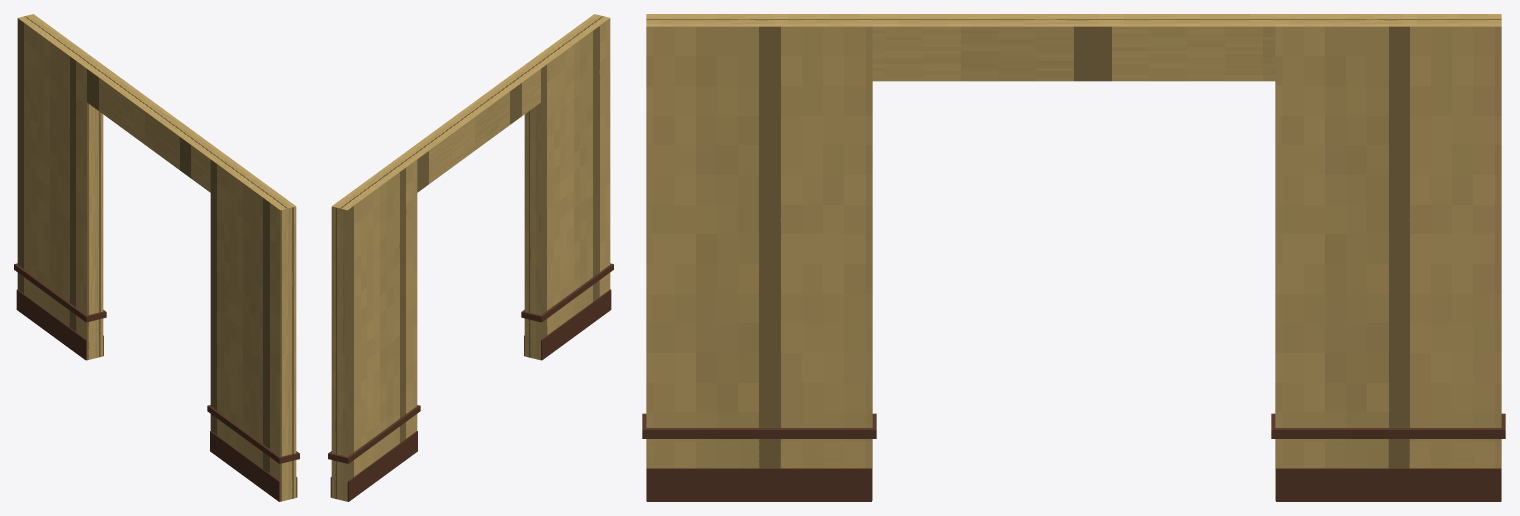
The model's file is living_dining.glb.
3 views of the same model, side by side, from view 1: azimuth 30°, elevation 25°; view 2: azimuth 150°, elevation 25°; view 3: azimuth 270°, elevation 25° (orthographic). The views are drawn at different scales.
Visible parts, largest first — view 1: Box3, Box1, Box5, Box4, Box2, Box6, Box9, Box7; view 2: Box1, Box3, Box5, Box2, Box4, Box8, Box7, Box9; view 3: Box3, Box1, Box5, Box2, Box4, Box6, Box8, Box7, Box9.
Part boxes in pixels (x1,y1,x2,y2): Box3: [210, 155, 296, 501]; Box1: [17, 14, 103, 360]; Box5: [87, 65, 226, 192]; Box4: [210, 431, 297, 501]; Box2: [16, 289, 103, 360]; Box6: [17, 273, 102, 359]; Box9: [207, 405, 299, 463]; Box7: [14, 263, 106, 322]; Box1: [331, 155, 417, 501]; Box3: [524, 14, 610, 360]; Box5: [401, 65, 540, 192]; Box2: [330, 431, 417, 501]; Box4: [524, 289, 611, 360]; Box8: [525, 273, 610, 359]; Box7: [328, 405, 420, 463]; Box9: [521, 263, 613, 322]; Box3: [646, 14, 872, 500]; Box1: [1275, 14, 1501, 500]; Box5: [872, 14, 1275, 81]; Box2: [1276, 468, 1501, 501]; Box4: [646, 468, 871, 501]; Box6: [1275, 439, 1501, 500]; Box8: [646, 439, 872, 500]; Box7: [1271, 413, 1505, 438]; Box9: [642, 413, 876, 438].
Size of the model in its own units: 0.19 by 2.6 by 4.29.
Materials: 2 (1 with a texture image).
